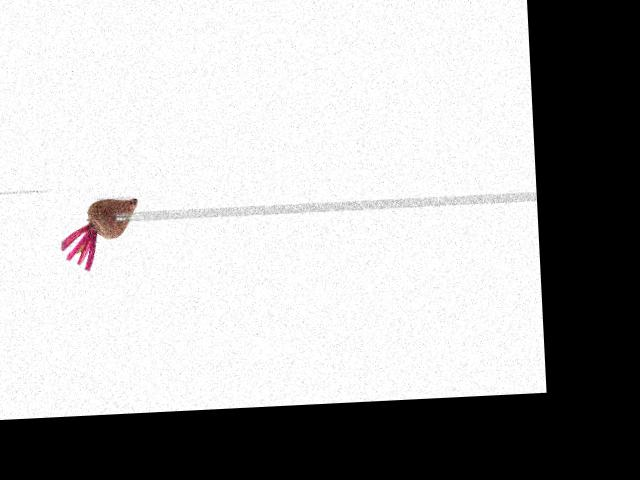beet: (58, 197, 141, 272)
